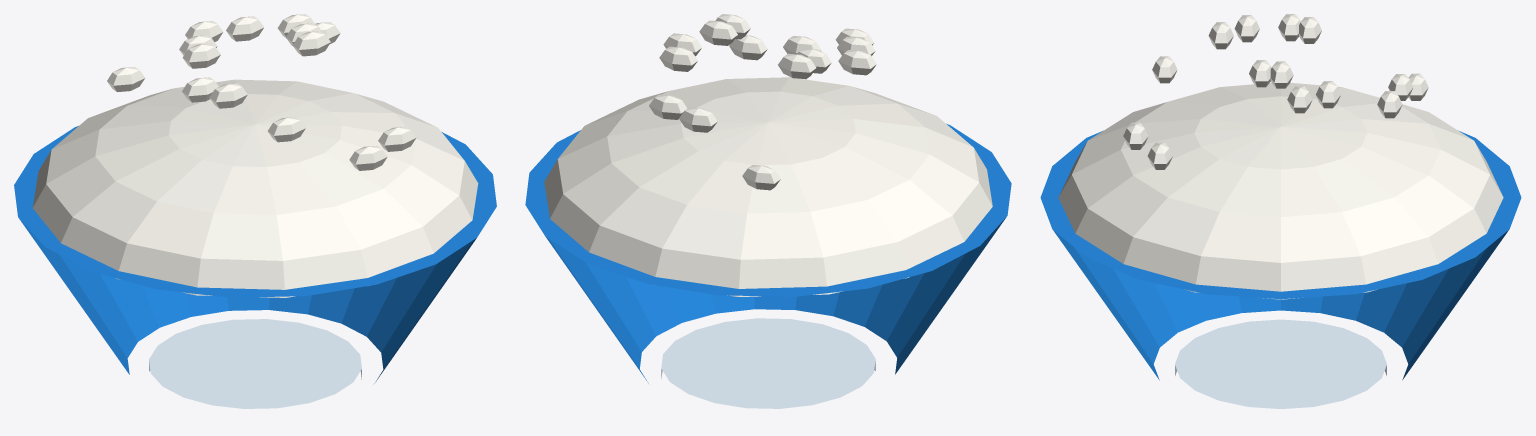
Rendered from ris.glb.
3 views of the same model, side by side, from view 1: azimuth 30°, elevation 25°; view 2: azimuth 150°, elevation 25°; view 3: azimuth 270°, elevation 25° (orthographic).
Parts seen in each view (by area): view 1: ris; view 2: ris; view 3: ris.
Boxes of the visible parts, x1=… form: ris: x1=14, y1=14, x2=496, y2=408; ris: x1=525, y1=14, x2=1011, y2=408; ris: x1=1040, y1=14, x2=1521, y2=408.
Bounding box in the file's own units: 0.68 × 0.5263 × 0.68.
